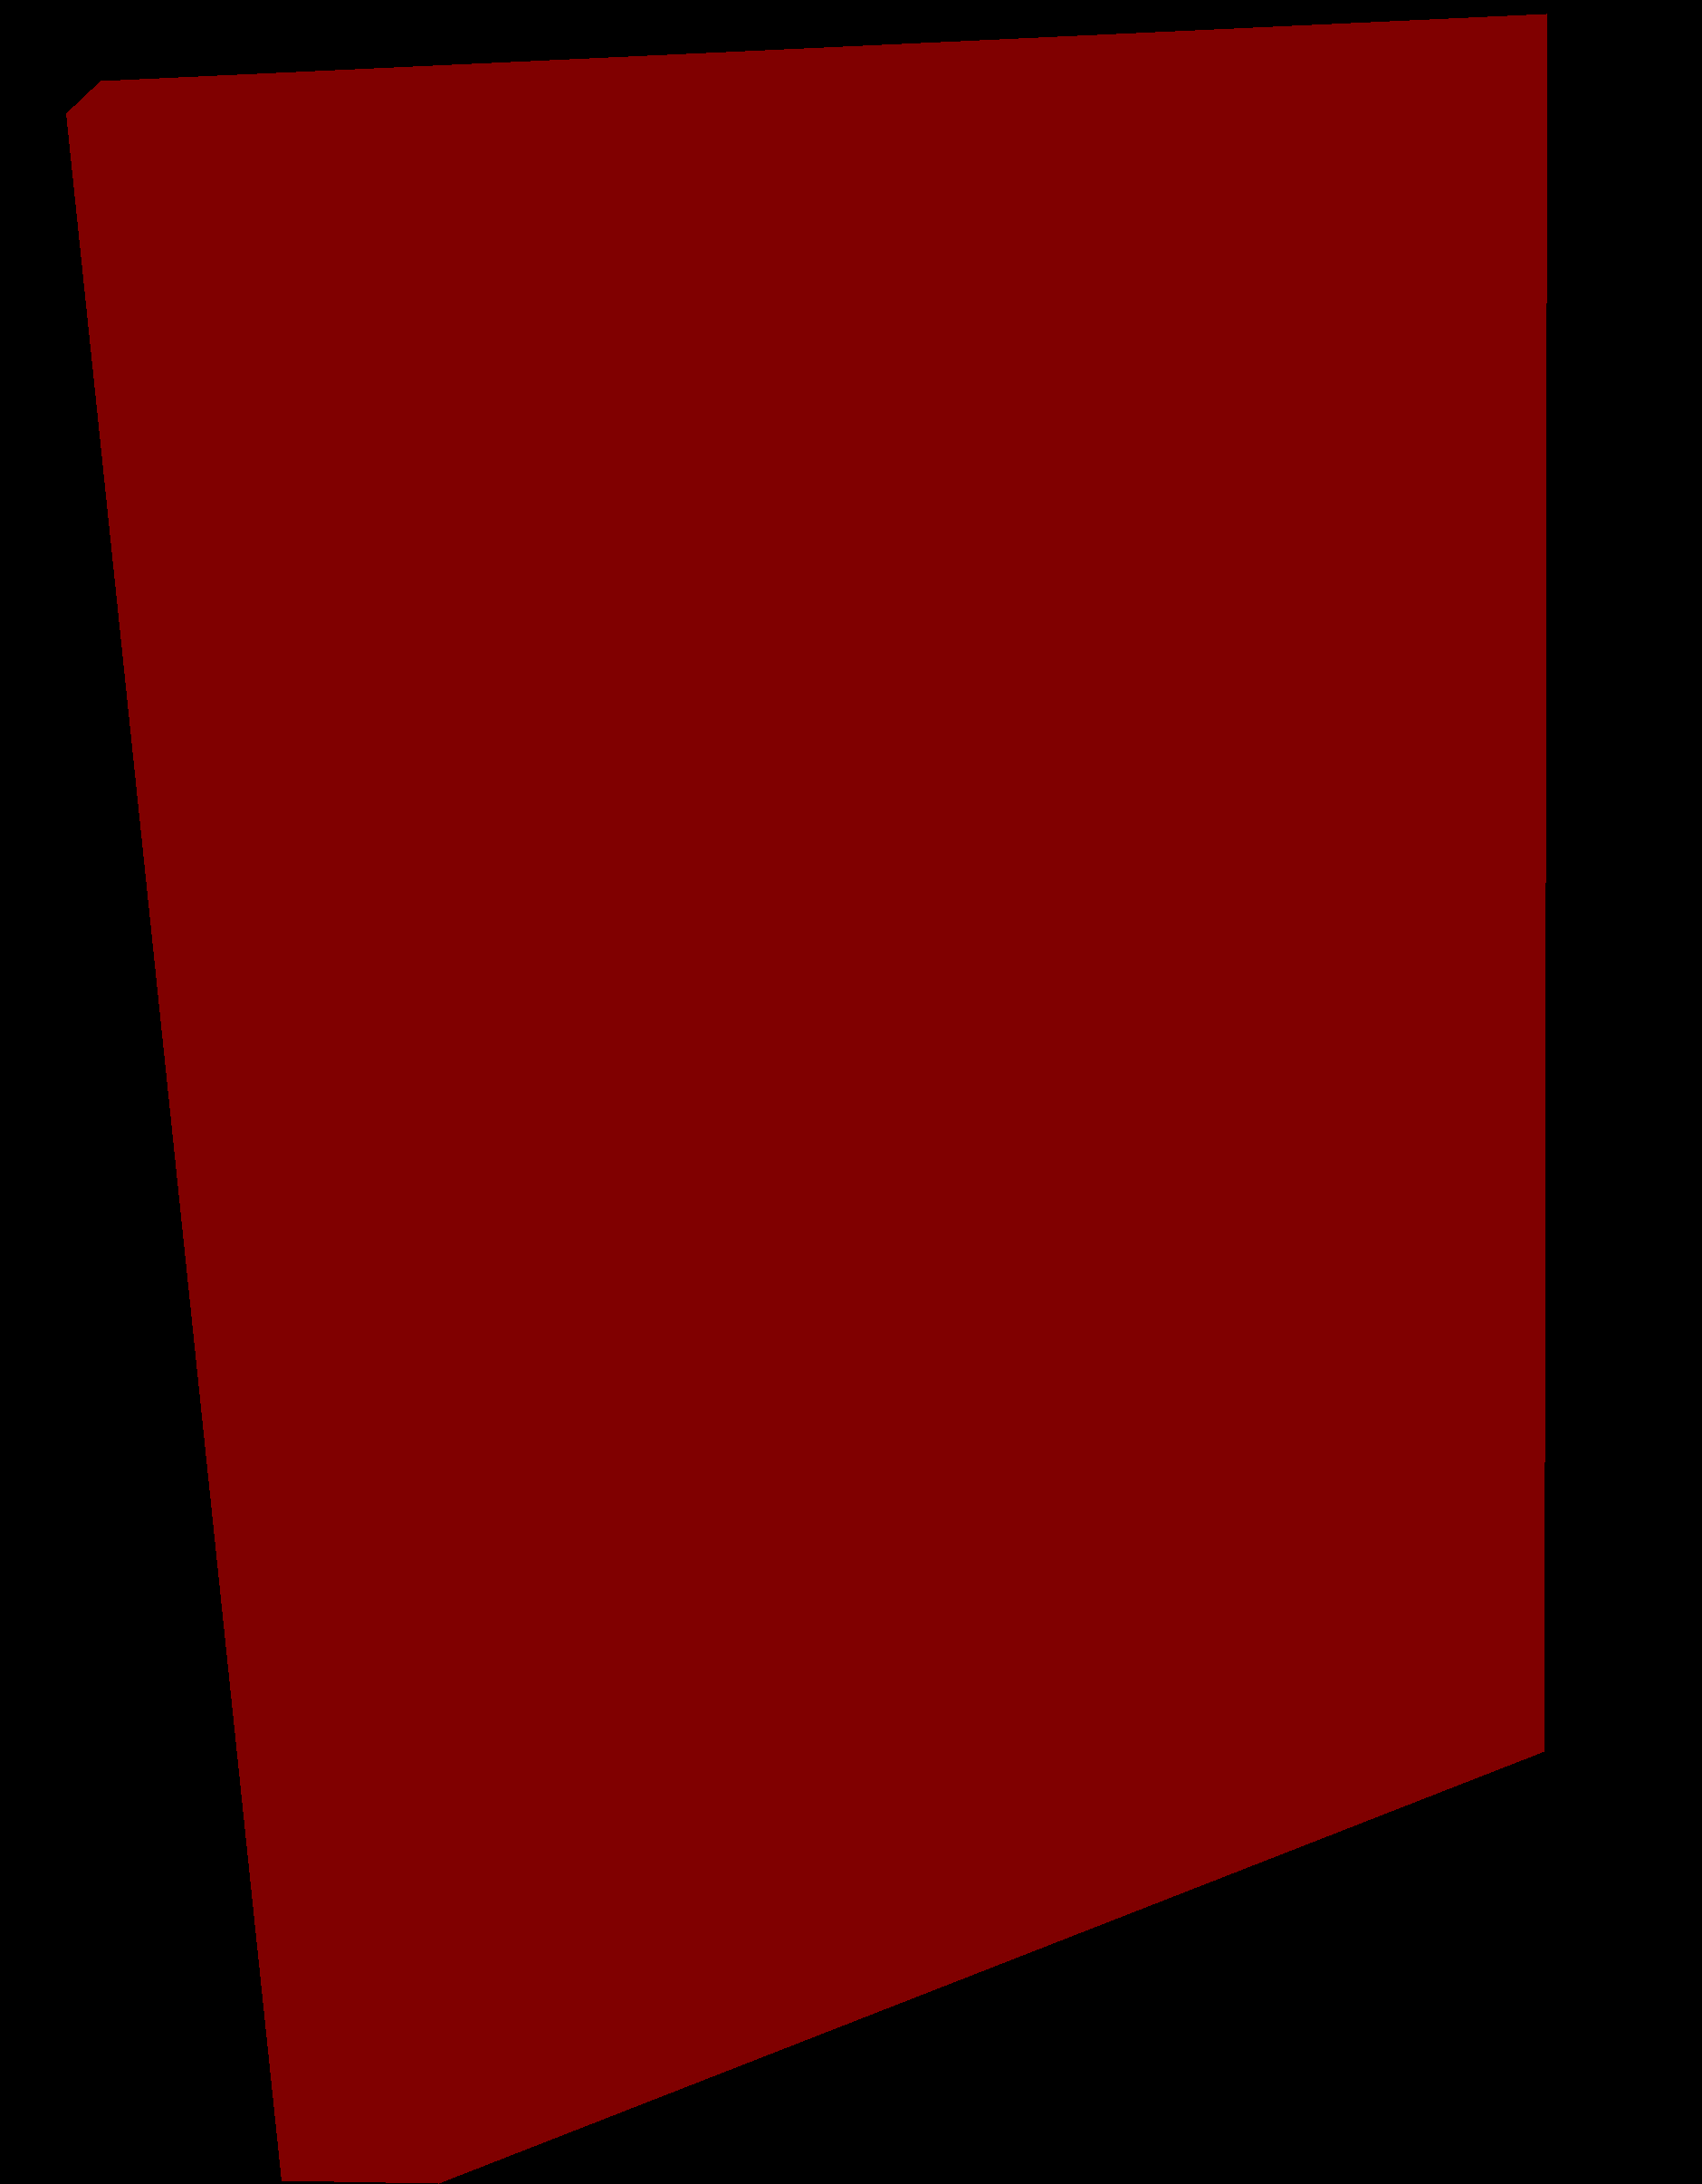sign: (66, 14, 1546, 2182)
